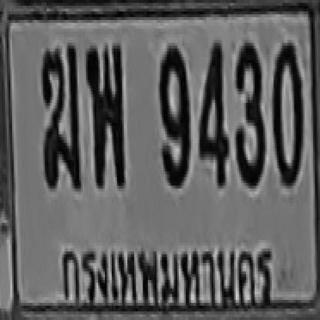A06: (41, 44, 80, 187)
A30: (85, 43, 125, 186)
N00: (272, 40, 303, 186)
N03: (234, 40, 265, 186)
N04: (198, 40, 229, 186)
N09: (158, 43, 189, 186)
P04: (55, 236, 273, 313)
